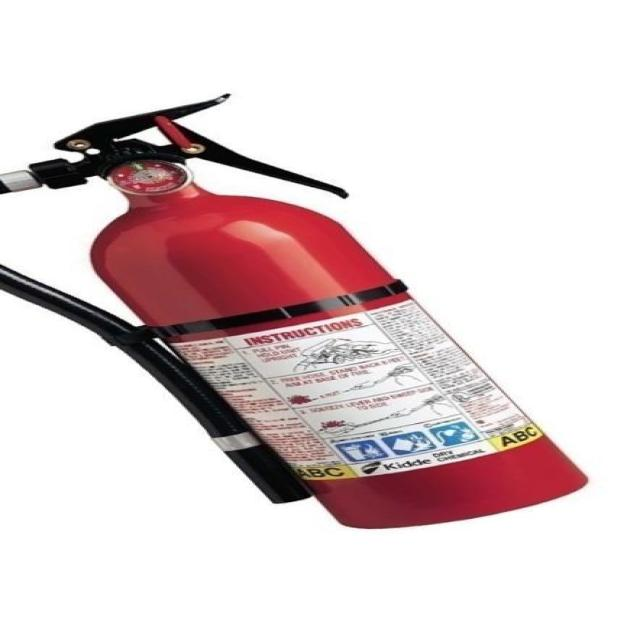fire_extinguisher: (0, 87, 598, 532)
